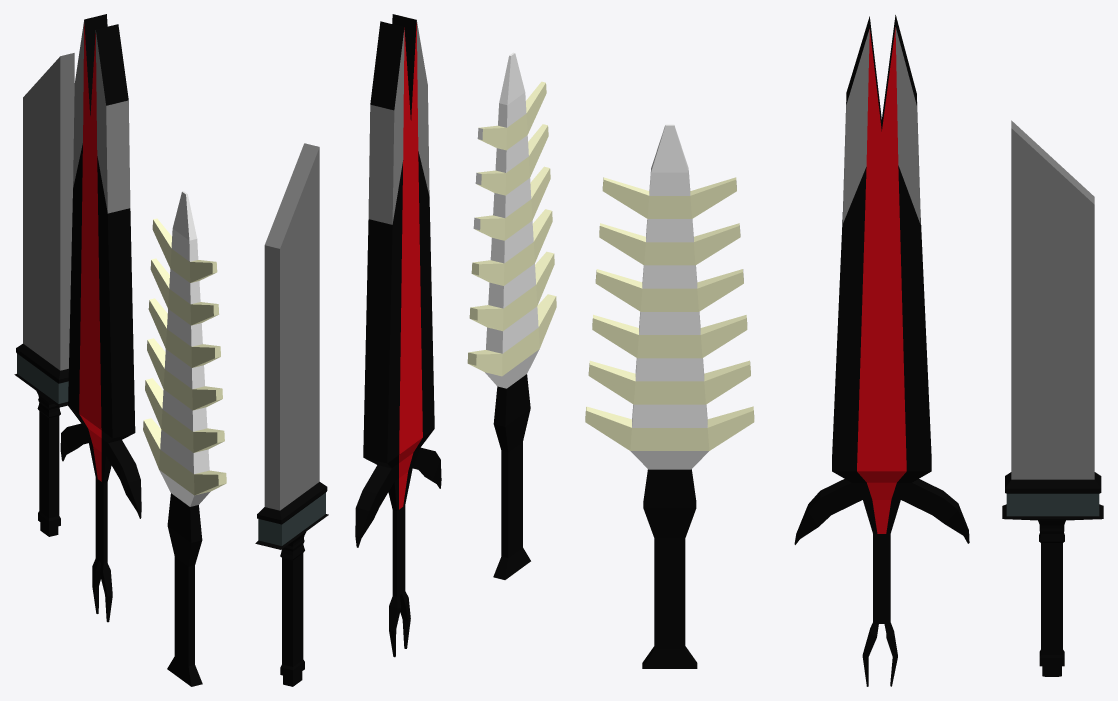
Rendered from Swords.fbx.
The picture shows the model from 3 angles, left to right: view 1: azimuth 30°, elevation 25°; view 2: azimuth 150°, elevation 25°; view 3: azimuth 270°, elevation 25°; orthographic projection. The views are drawn at different scales.
Parts seen in each view (by area): view 1: Cube.001, Cube.002, Cube; view 2: Cube.001, Cube, Cube.002; view 3: Cube.001, Cube.002, Cube.
Boxes of the visible parts, x1,y1,x2,y2 form: Cube.001: (60,14,141,622); Cube.002: (143,191,226,686); Cube: (14,53,74,536); Cube.001: (355,14,441,657); Cube: (255,143,328,686); Cube.002: (467,52,556,579); Cube.001: (794,15,969,686); Cube.002: (585,124,754,668); Cube: (1002,120,1103,676).
Size of the model in its own units: 85.58 by 875 by 617.
